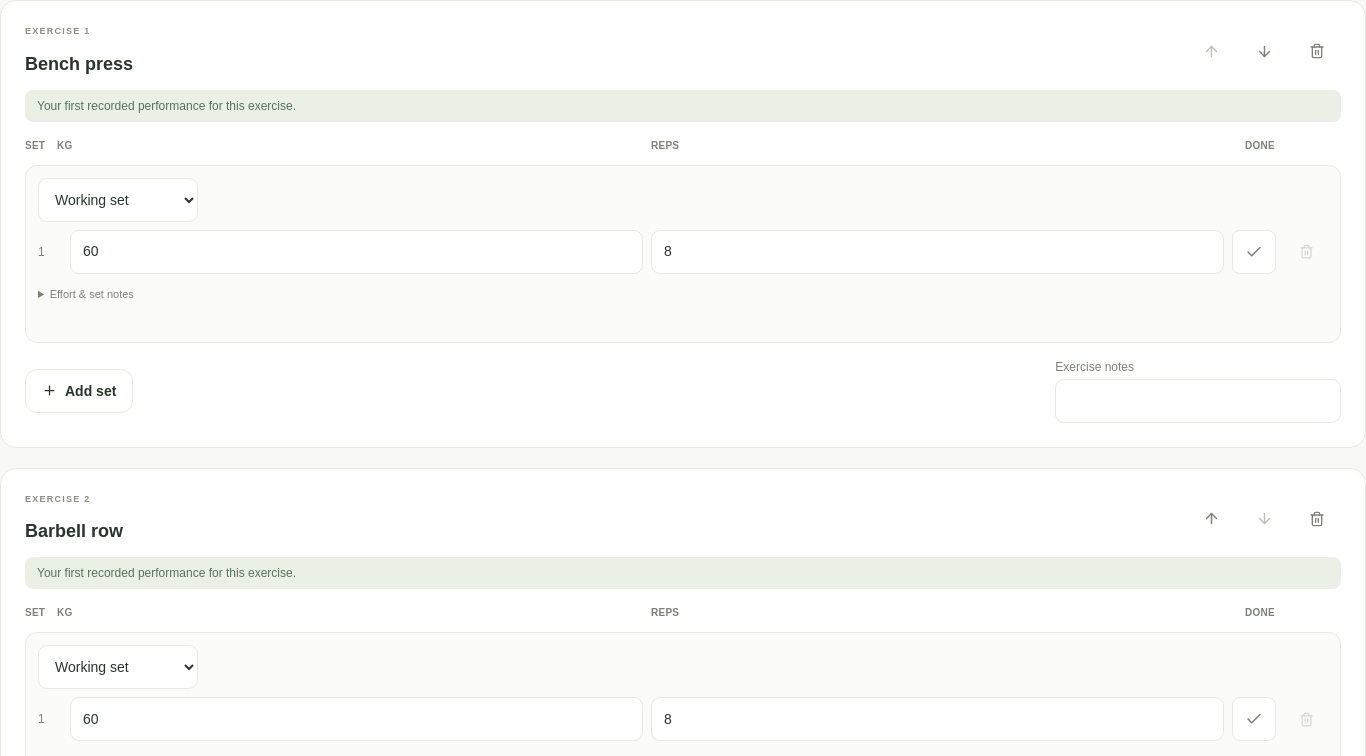
Test case: strength exercise editor › adds and removes sets, reorders exercises and removes exercise slots
Step 1. Click the button "Add set" → (79, 390), box [25,368,133,412]
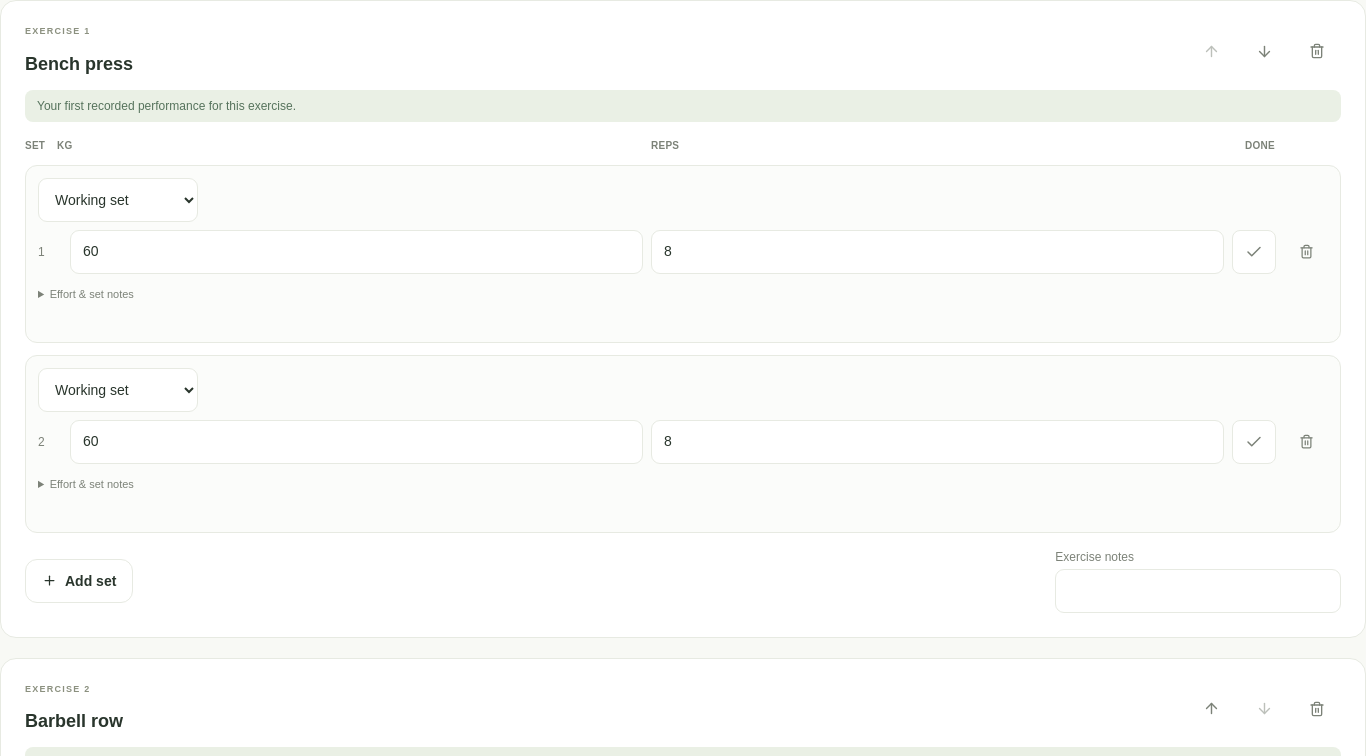
Now the number field named "Bench press set 2 repetitions" is shown, box [651,420,1224,464]
Step 2. Click the button named "Remove Bench press set 2" → (1306, 442), box [1284,420,1328,464]
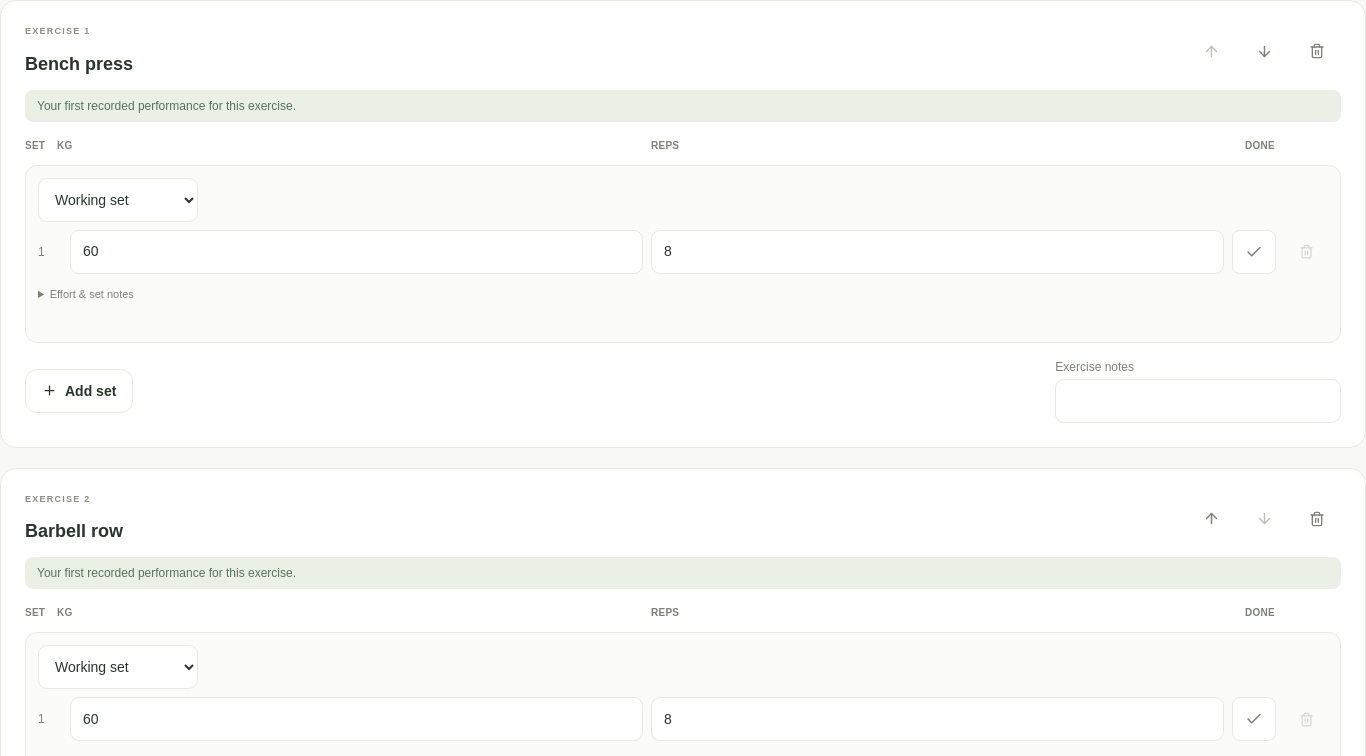
Step 3. Click the button named "Move Barbell row up" → (1212, 519), box [1187,497,1236,541]
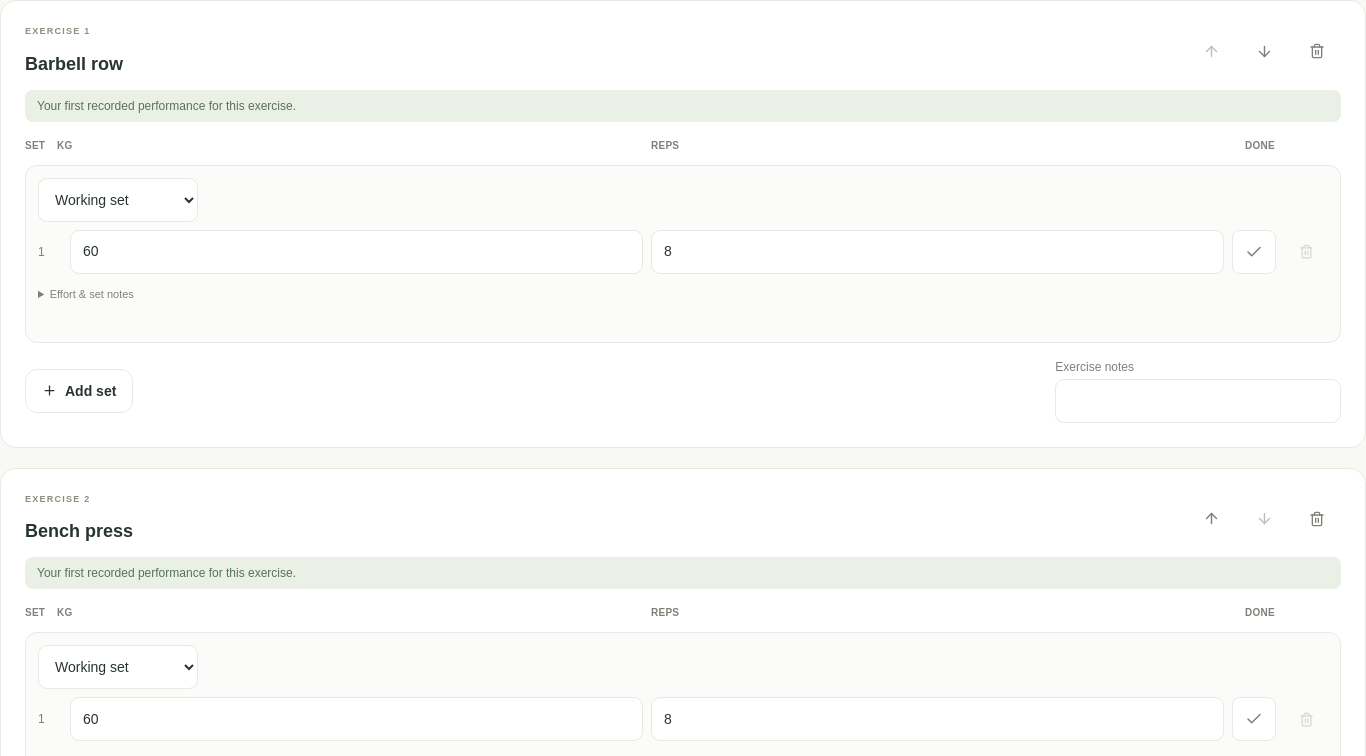
Expected: the heading "Barbell row" is shown, [25,50,123,78]
Step 4. Click the button named "Remove Bench press" → (1317, 519), box [1293,497,1341,541]
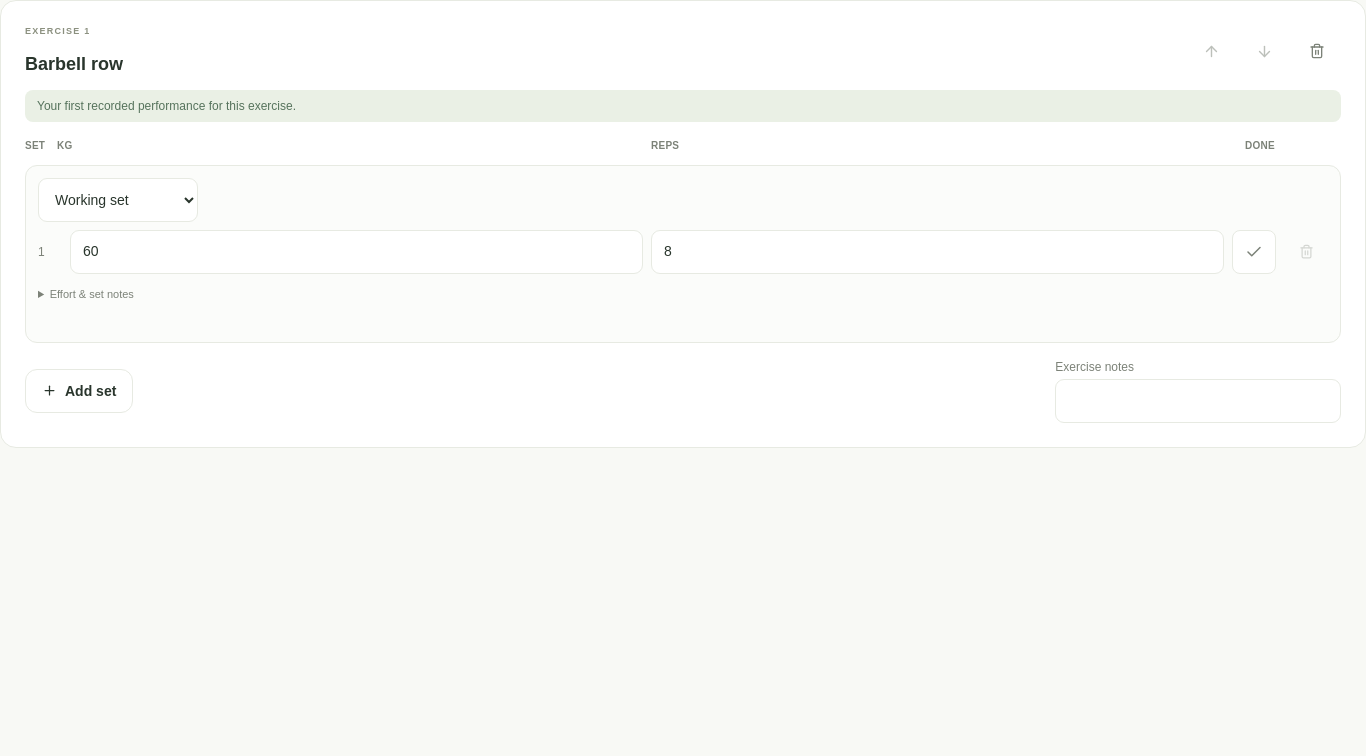
Now the heading "Bench press" is gone
